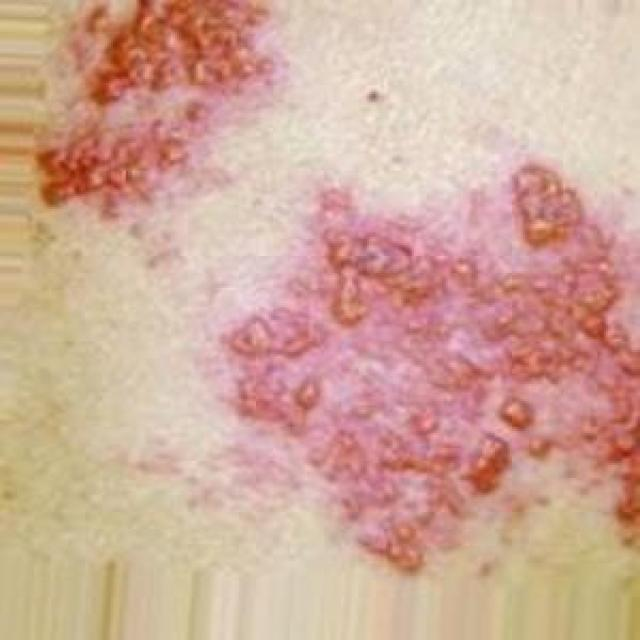Shingles: (225, 149, 640, 570), (28, 0, 277, 219)
